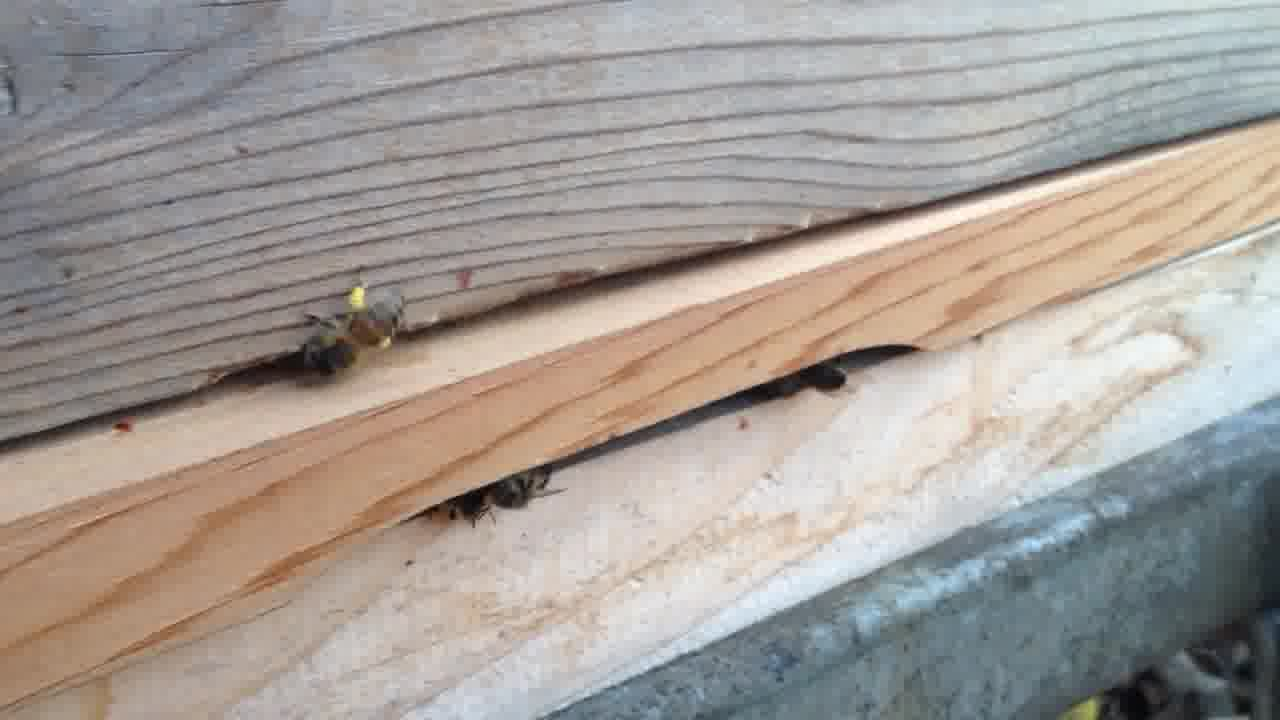pollen: (283, 275, 408, 379)
